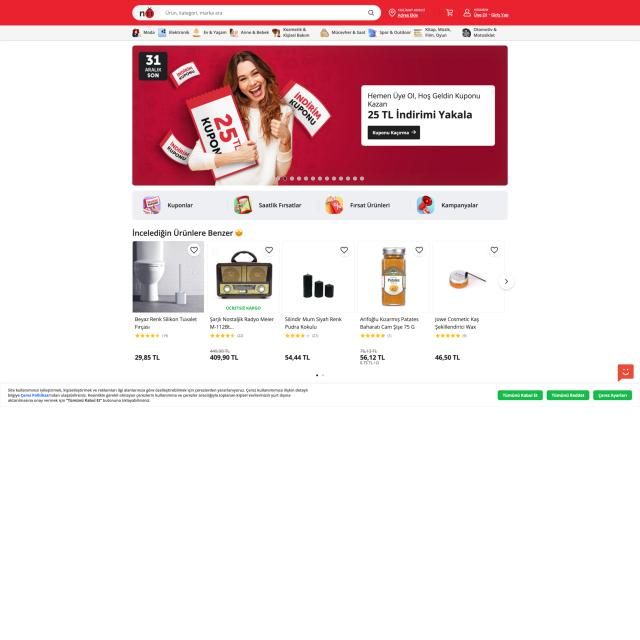CheckBox: (546, 389, 590, 401), (497, 390, 543, 401), (594, 390, 632, 400), (616, 363, 635, 382)
CheckedTextView: (161, 5, 382, 21)
Switch: (133, 240, 516, 342)
bag: (0, 0, 640, 41)
breadcrumbs: (131, 227, 234, 239)
card: (132, 44, 508, 187)
carousel: (499, 274, 514, 289), (486, 244, 502, 256), (412, 244, 426, 256), (188, 243, 200, 256), (337, 244, 350, 256), (264, 244, 274, 256), (462, 8, 472, 18), (445, 8, 454, 18), (388, 8, 396, 18), (368, 8, 375, 17), (134, 332, 140, 339), (381, 332, 386, 340), (230, 333, 236, 339), (306, 333, 311, 339), (210, 332, 214, 339), (285, 332, 289, 339), (156, 333, 160, 339), (360, 332, 364, 338), (436, 333, 440, 338)
content: (233, 195, 253, 215), (142, 196, 162, 215), (325, 196, 344, 214), (416, 196, 435, 214)
copy: (133, 241, 205, 313), (207, 241, 279, 301), (283, 268, 354, 304), (377, 242, 409, 311), (444, 264, 489, 292)
data feed: (259, 201, 301, 210), (441, 202, 479, 210), (350, 202, 390, 209), (598, 392, 628, 400), (501, 392, 539, 398), (166, 202, 194, 209), (552, 393, 586, 398)
date picker: (138, 6, 155, 19)
decoration: (128, 27, 502, 40)
footer: (164, 8, 226, 18)
